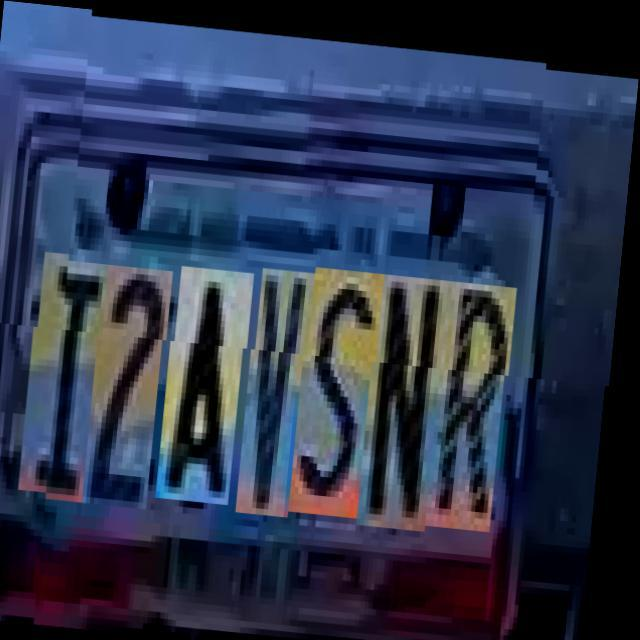2: (95, 262, 178, 506)
A: (169, 262, 259, 499)
I: (31, 256, 114, 500)
N: (370, 265, 458, 522)
R: (438, 271, 522, 521)
S: (302, 260, 389, 510)
V: (249, 262, 320, 511)
